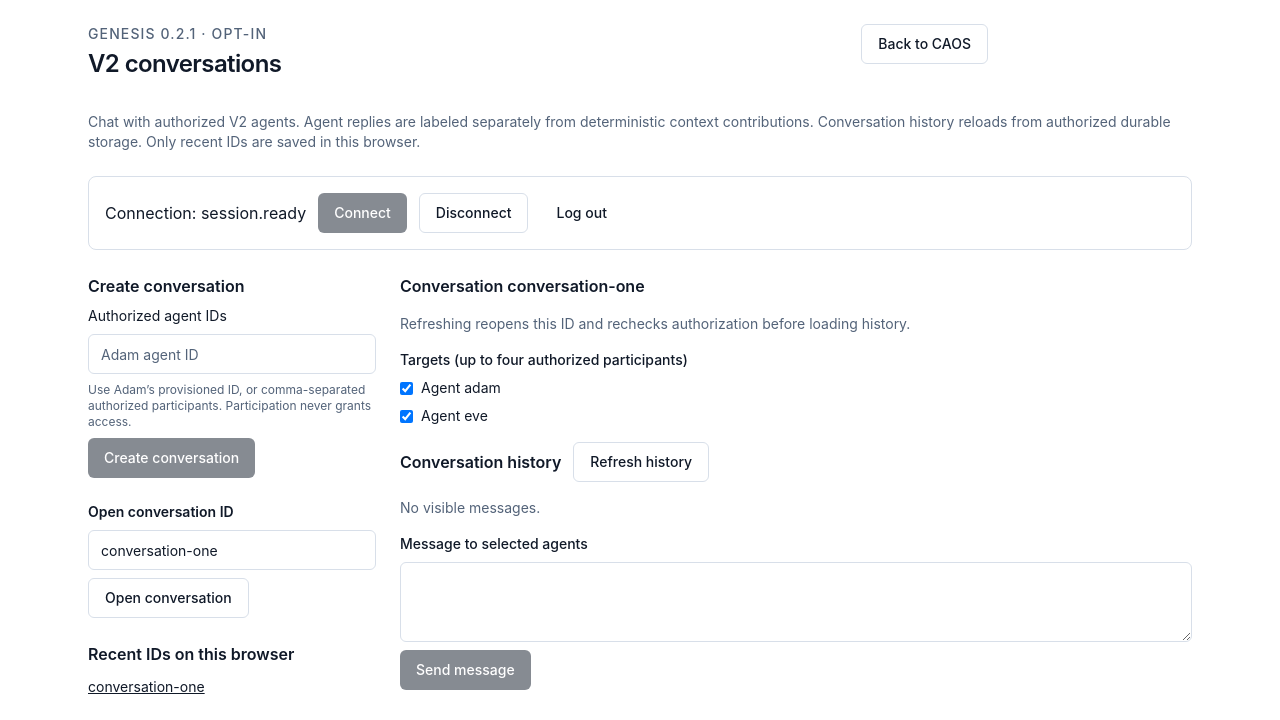
Test: settles a governed LLM response and reloads its attributed canonical transcript
The image size is (1280, 720).
Step 1. Type "Hello" into the text box labelled "Message to selected agents" → (796, 602), box x1=400 y1=562 x2=1192 y2=642
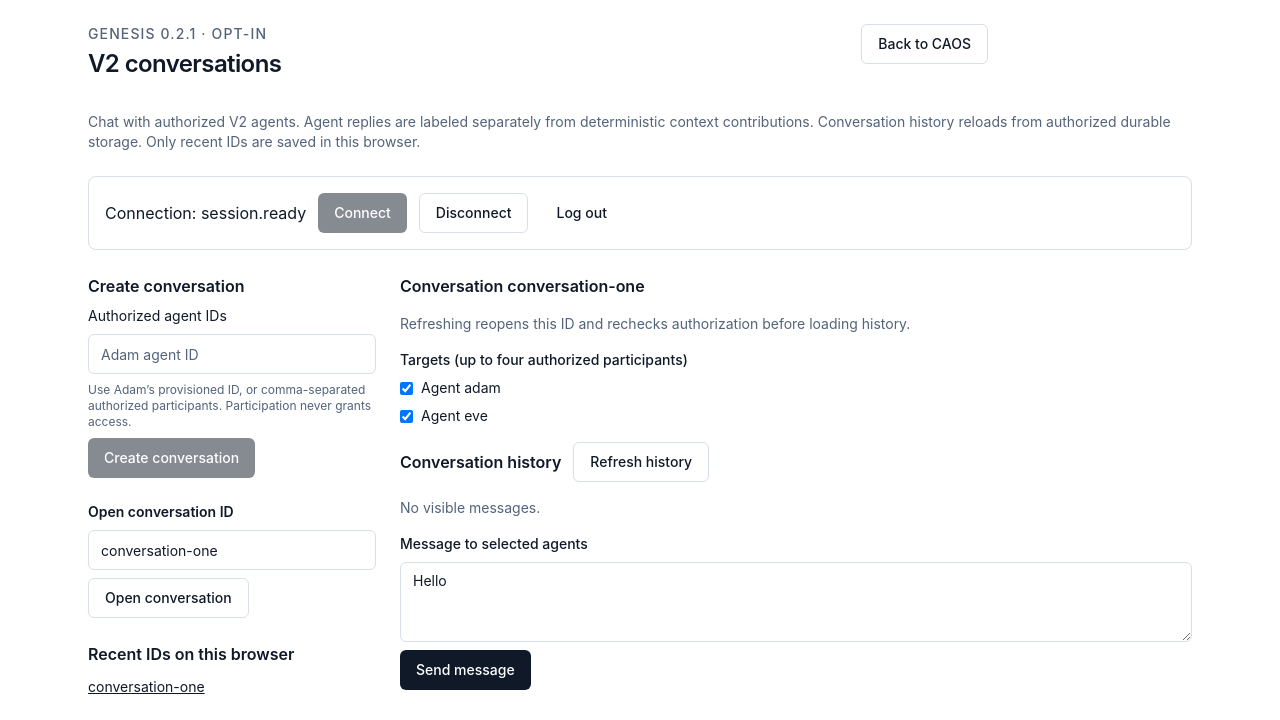
Step 2. Click the button "Send message" → (465, 670), box x1=400 y1=650 x2=531 y2=690
(page scrolled)
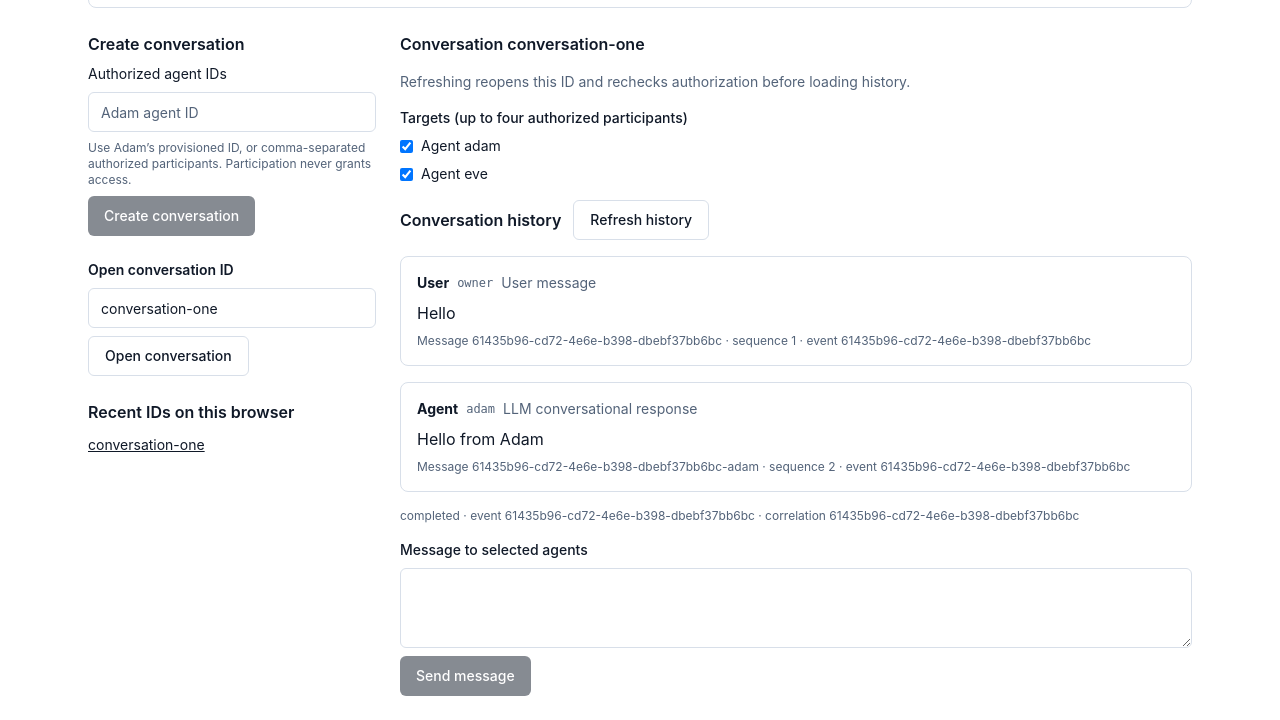
Result: the text "Hello from Adam" is shown at x1=417 y1=429 x2=544 y2=449
Result: the text "LLM conversational response" is shown at x1=503 y1=399 x2=698 y2=419
Result: the text "completed" is shown at x1=400 y1=508 x2=460 y2=523
